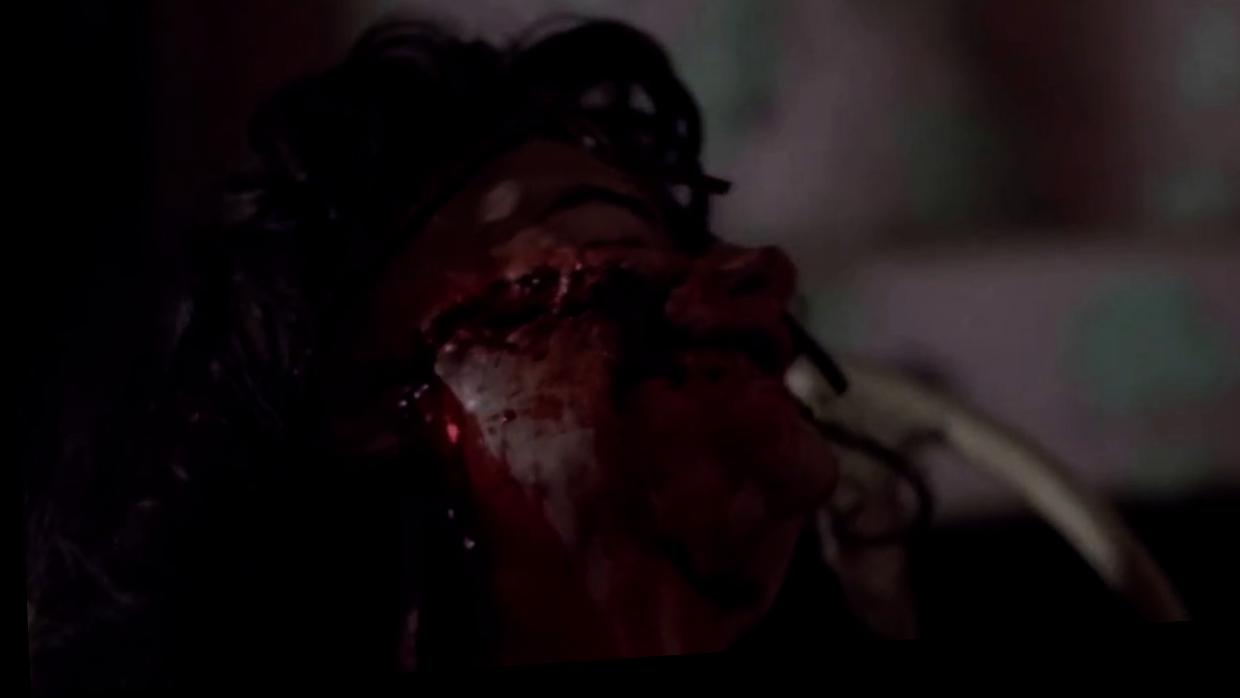Fire: (402, 254, 833, 674)
